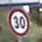limite 30: (7, 6, 29, 36)
